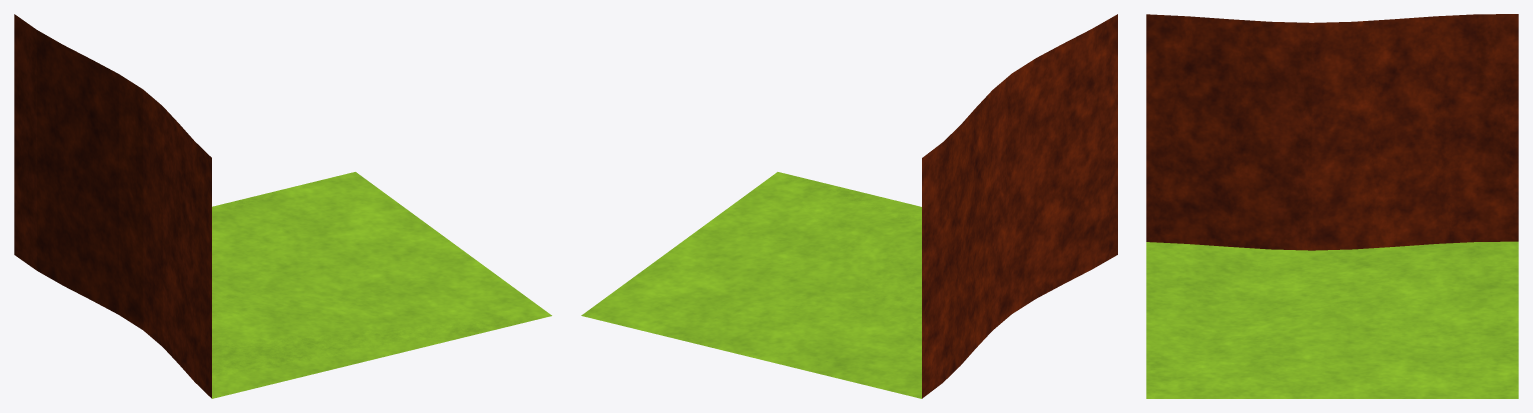
The model's file is swamp_wall.glb.
3 renders of one model, left to right at view 1: azimuth 30°, elevation 25°; view 2: azimuth 150°, elevation 25°; view 3: azimuth 270°, elevation 25°, orthographic. The views are drawn at different scales.
Visible parts, largest first — view 1: ground; view 2: ground; view 3: ground.
Boxes of the visible parts, x1,y1,x2,y2 form: ground: (14, 14, 551, 398); ground: (581, 14, 1117, 398); ground: (1146, 14, 1518, 398).
Size of the model in its own units: 2 by 1.35 by 2.
2 materials, 2 textured.
